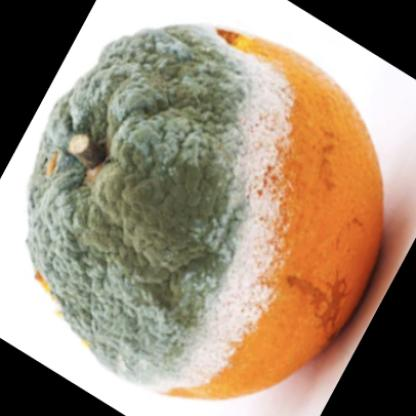rotten: (30, 24, 386, 400)
